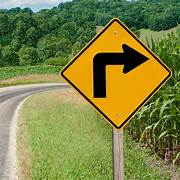left: (60, 19, 172, 130)
